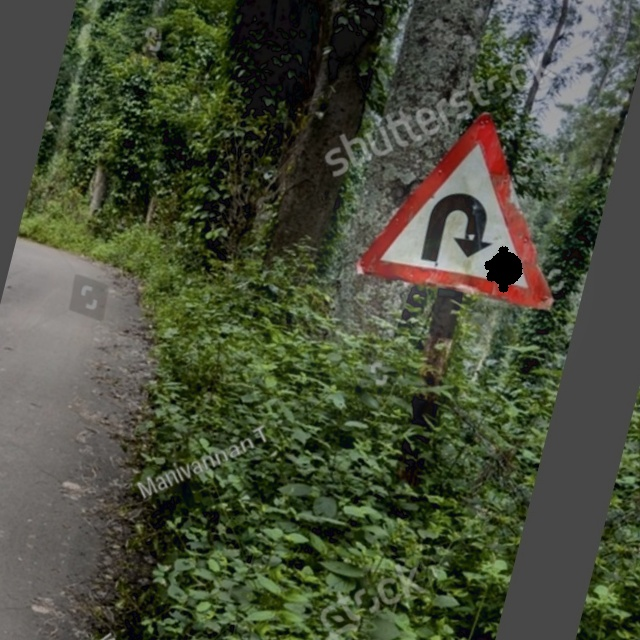Right_Hair_Pin_Bend: (361, 93, 591, 314)
